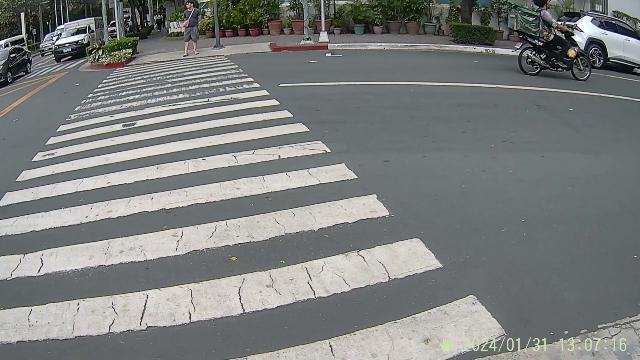car: (43, 18, 97, 62)
